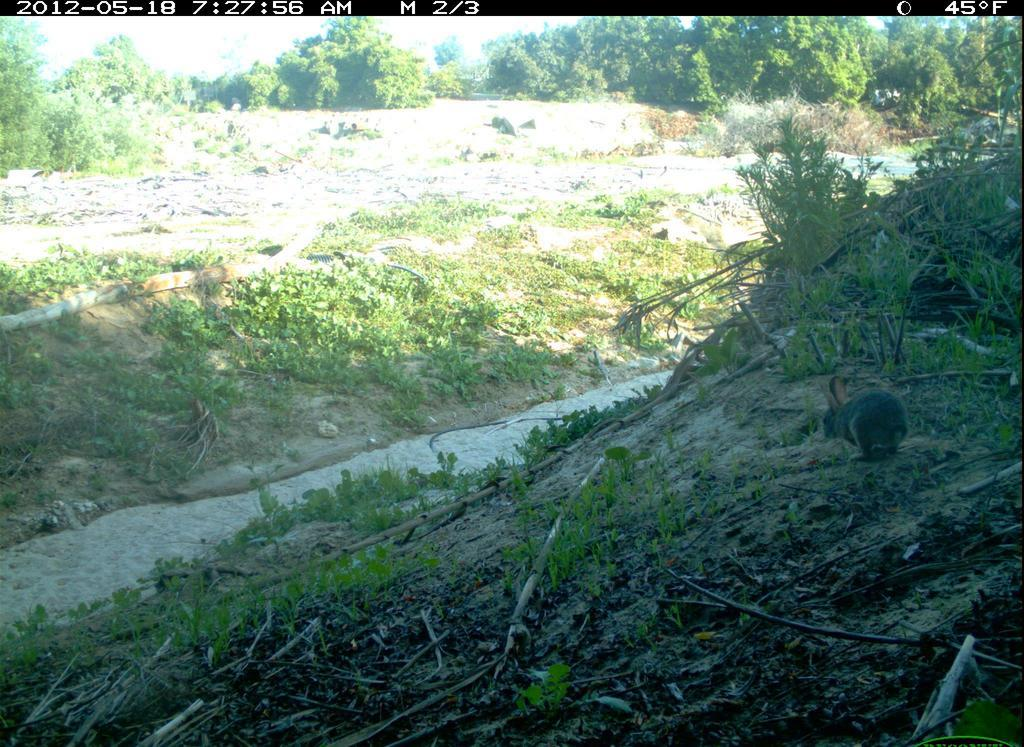rabbit: (815, 360, 916, 470)
